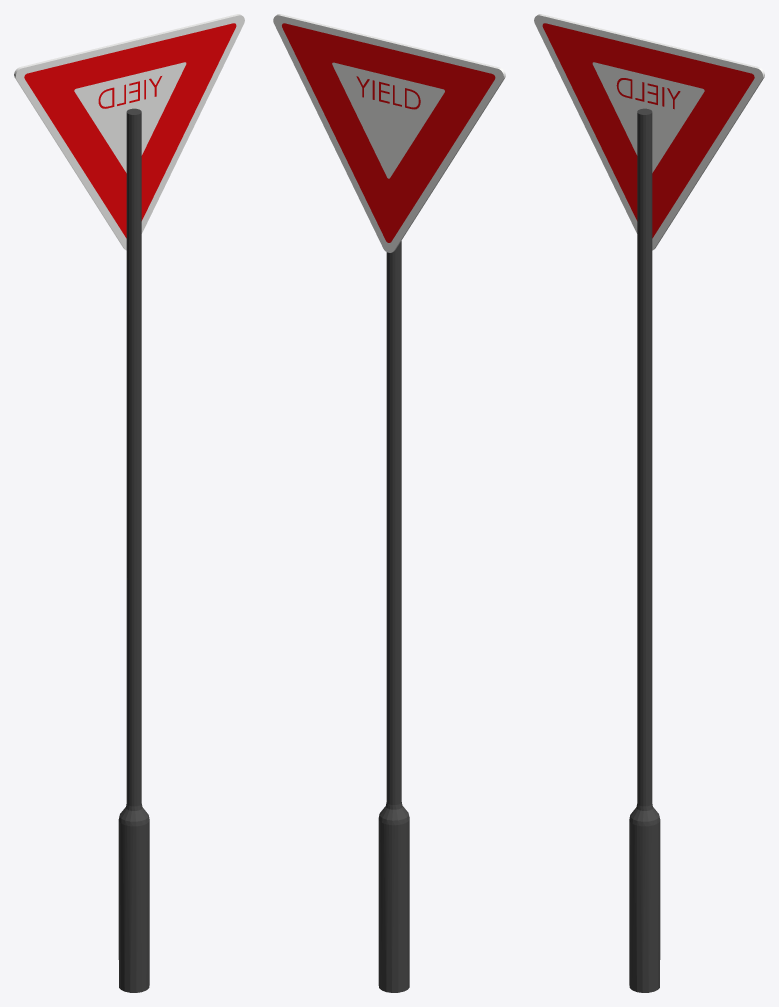
File: yield_sign.obj
3 views of the same model, side by side, from view 1: azimuth 30°, elevation 25°; view 2: azimuth 150°, elevation 25°; view 3: azimuth 330°, elevation 25° (orthographic).
Visible parts, largest first — view 1: object_1; view 2: object_1; view 3: object_1.
Part boxes in pixels (<box>): object_1: <box>14,14,244,992</box>; object_1: <box>273,14,505,992</box>; object_1: <box>534,14,764,992</box>.
Bounding box in the file's own units: 0.7394 × 2.91 × 0.0867.
